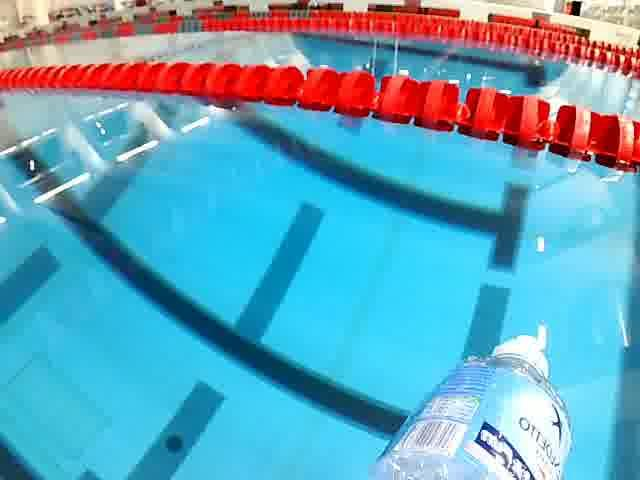Bottle: (366, 327, 583, 480)
